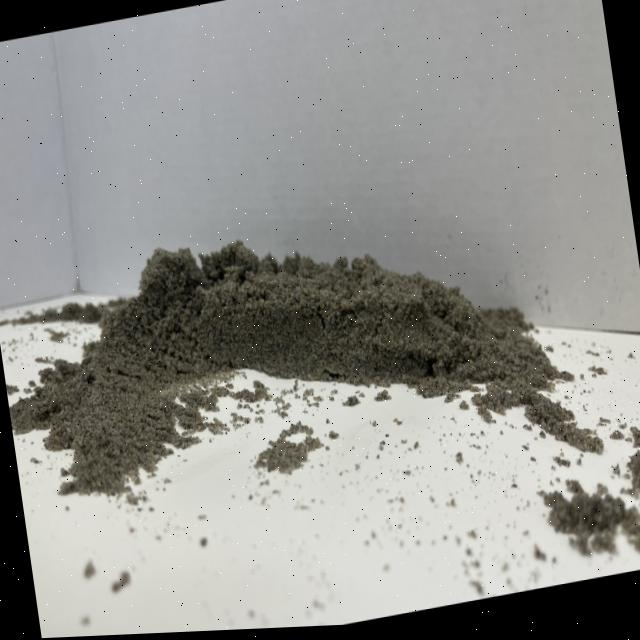sand: (0, 158, 591, 531)
